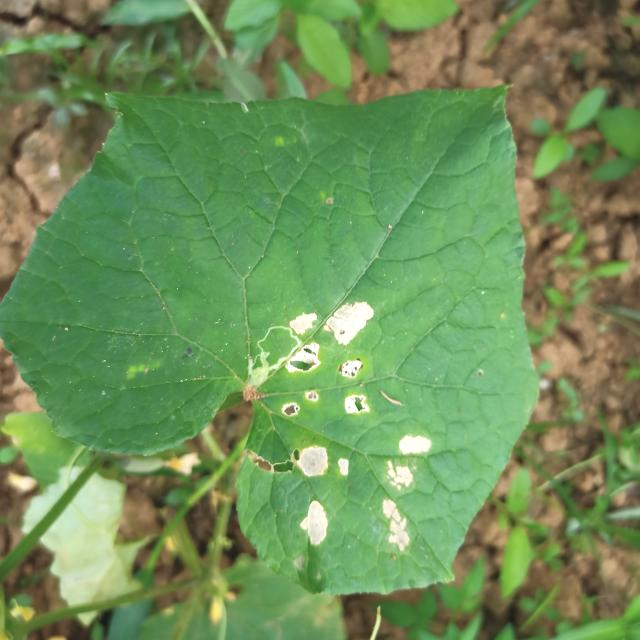disease_cucumber: (288, 304, 372, 545), (382, 434, 430, 550)
